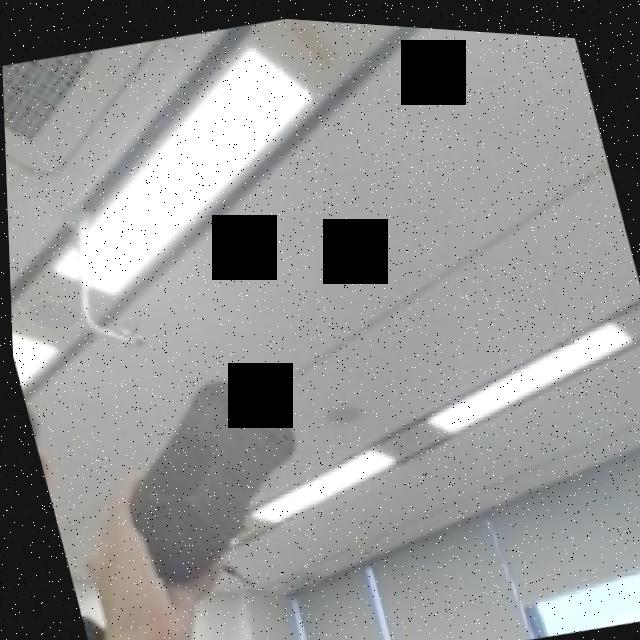shoe: (96, 352, 324, 587)
